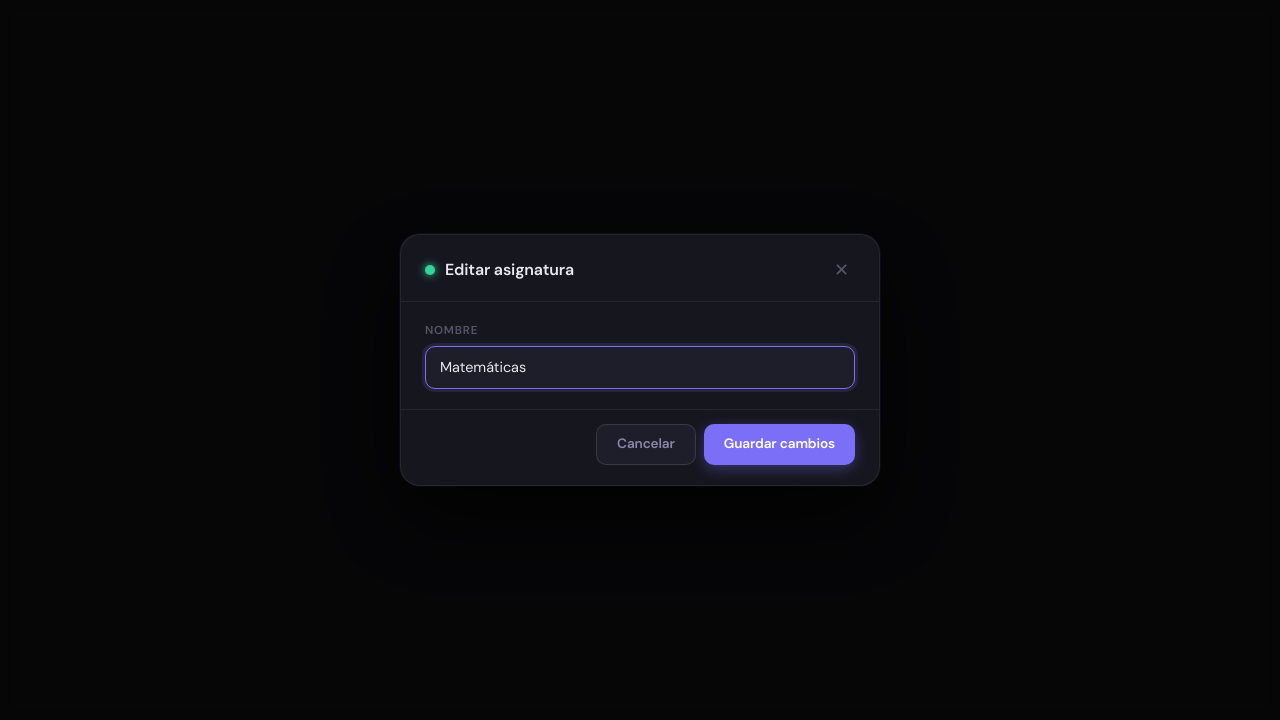
Test: EditSubjectDialog - botón guardar › está deshabilitado si el nombre se borra
Clear the field showing "Matemáticas": (640, 367) [425,346,855,389]
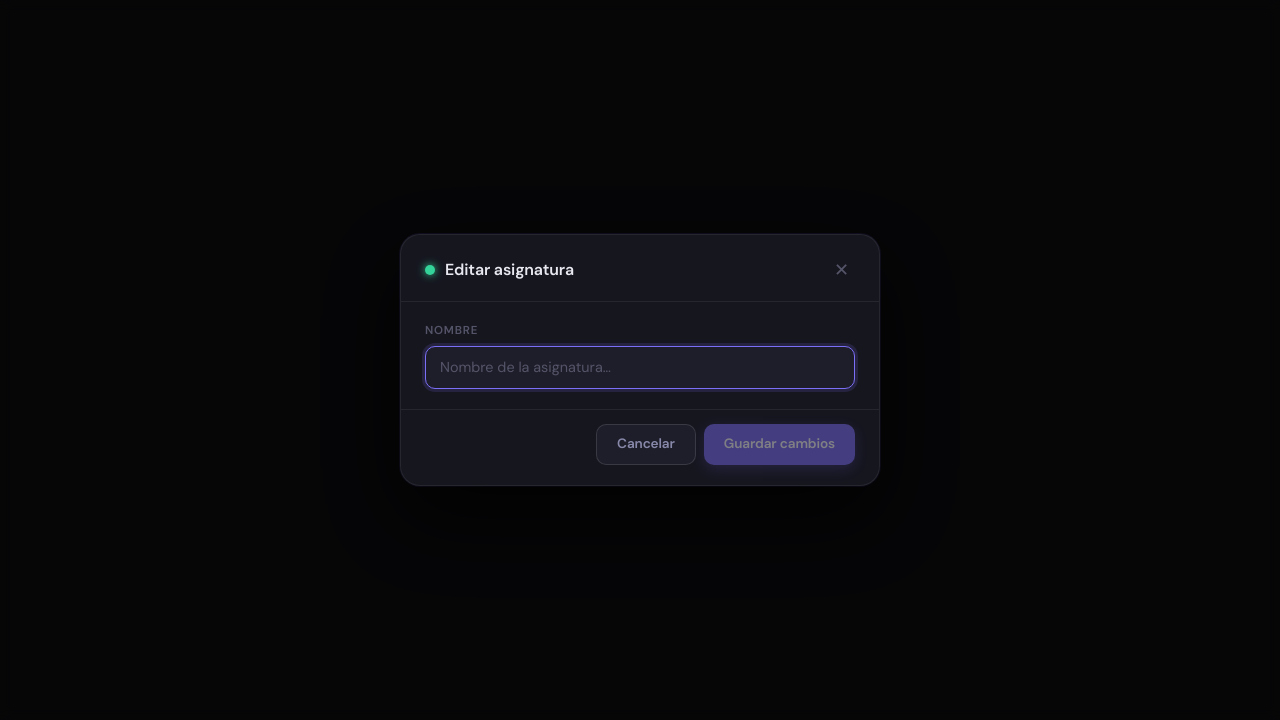
Result: the button "Guardar cambios" is disabled at [704,424,855,465]
